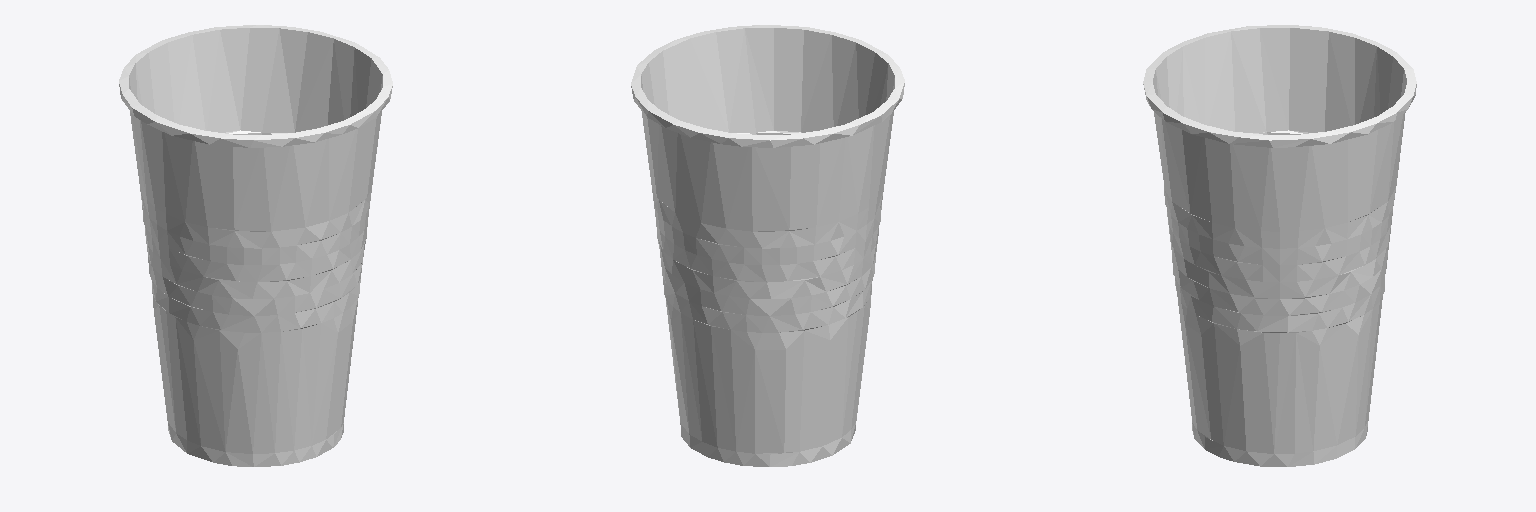
The model's file is solo-cup.obj.
3 renders of one model, left to right at view 1: azimuth 30°, elevation 25°; view 2: azimuth 150°, elevation 25°; view 3: azimuth 270°, elevation 25°, orthographic.
Visible parts, largest first — view 1: 000_Object; view 2: 000_Object; view 3: 000_Object.
Boxes of the visible parts, box(x1,y1,x2,y2) form: 000_Object: box(119, 25, 392, 466); 000_Object: box(631, 25, 904, 466); 000_Object: box(1143, 25, 1416, 466).
Bounding box in the file's own units: 71.05 × 100 × 71.04.